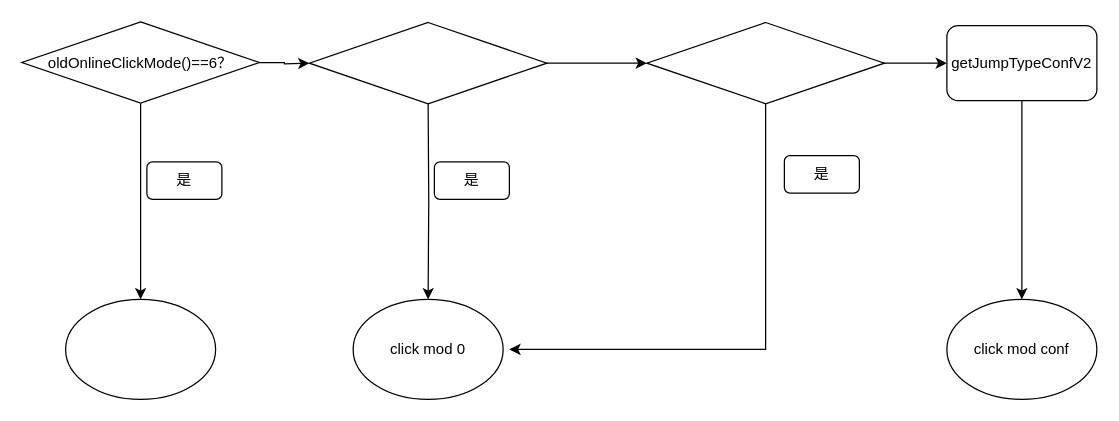
Some shapes in this 1119 by 421 pixel diagram are drawn without their labels. Here are the shapes that lost their labels. From the top down, the box of each, then its label:
(308, 21, 547, 104): pingmode==1？
(646, 21, 884, 104): devid为空&&特定的三方？
(64, 298, 216, 399): click mod 6
